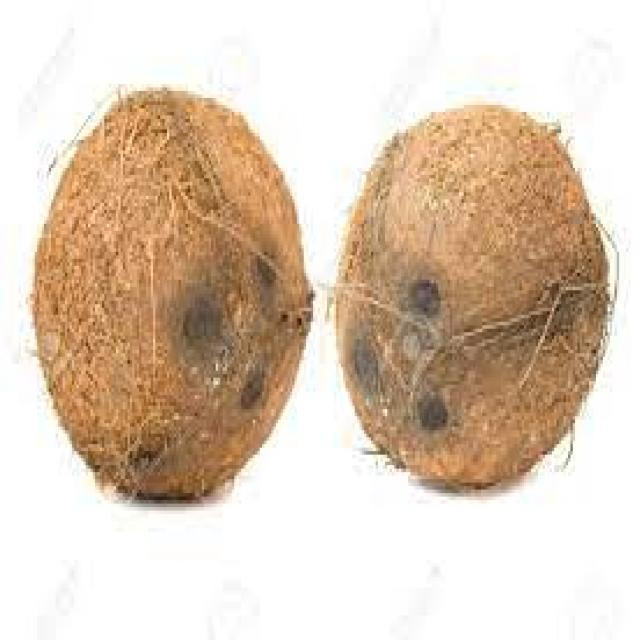coconut: (31, 81, 316, 507), (329, 98, 617, 493)
